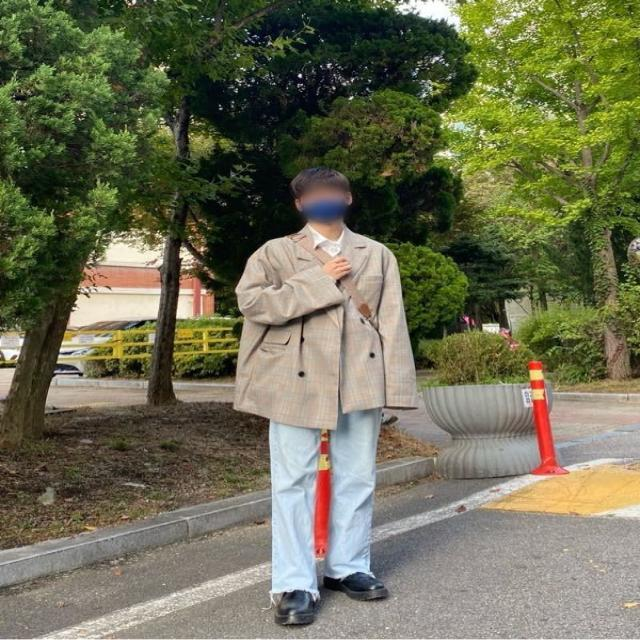blazer: (231, 220, 421, 432)
denimpants: (269, 396, 382, 604)
